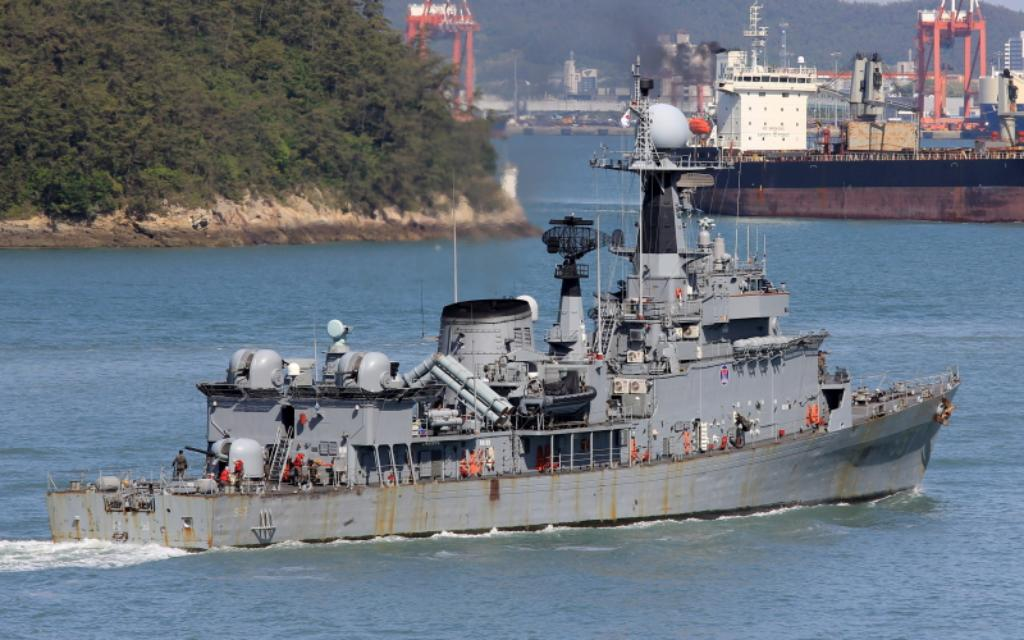Warship: (42, 48, 968, 556)
